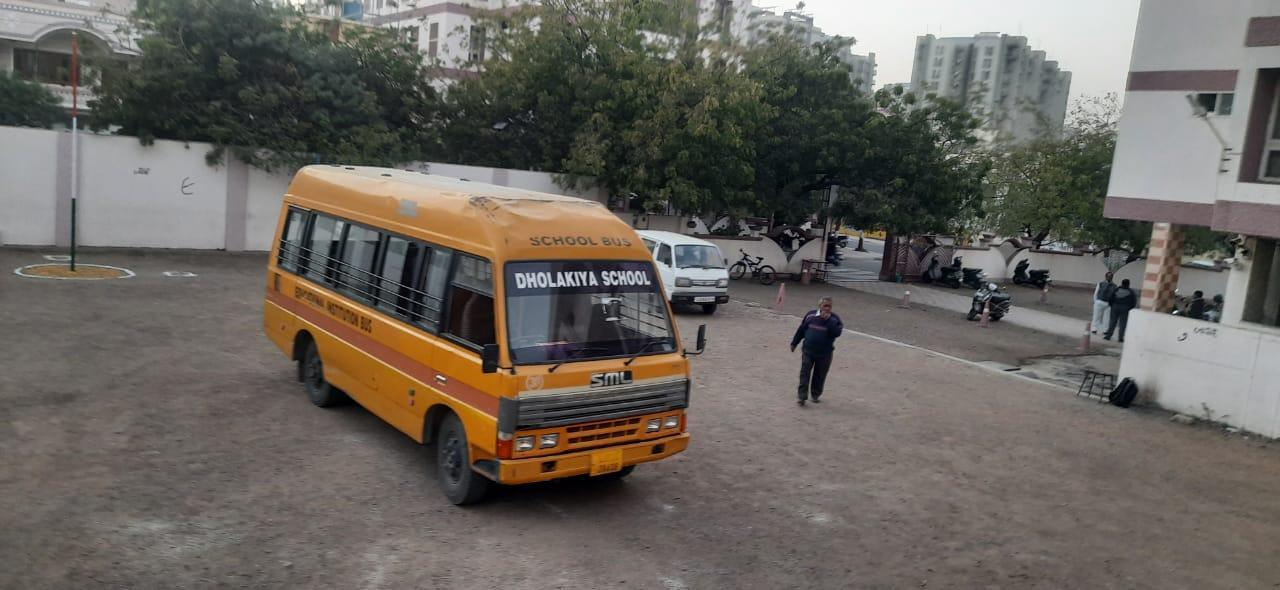Bus: (254, 153, 706, 527)
